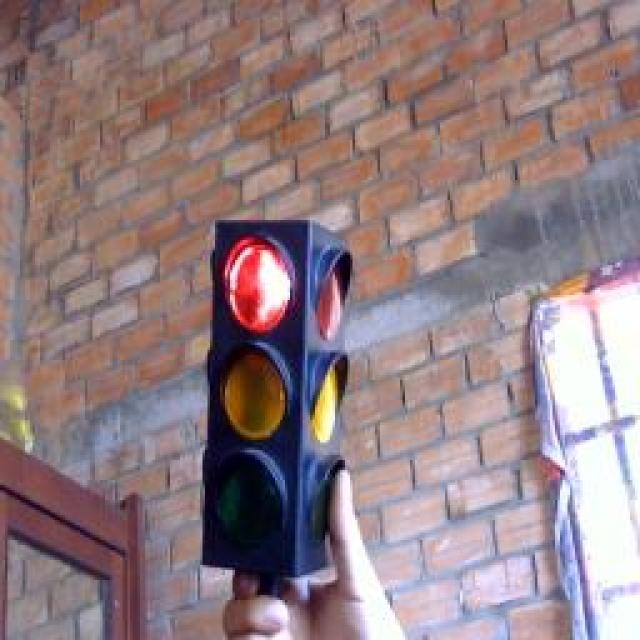-: (216, 222, 306, 340)
